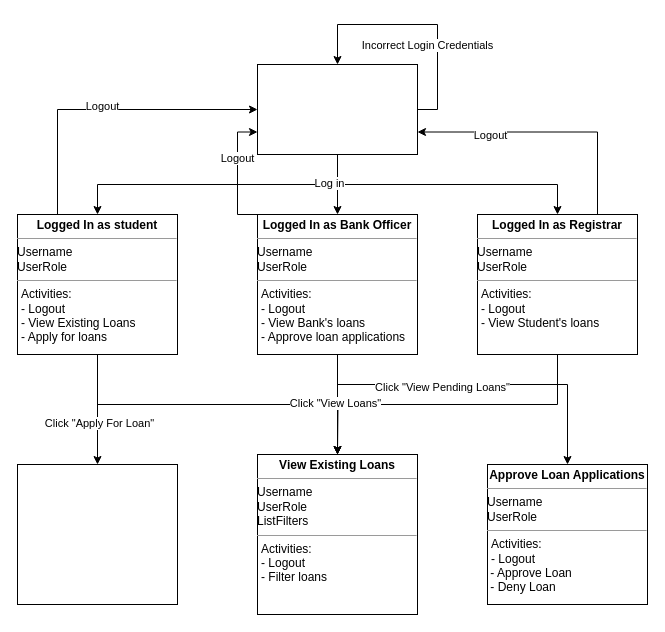
This 665x632 diagram has some shape labels left out. Here are the shapes that lost their labels. From the top down, the centre of each, then its label:
[337,109]: Logged Out n/a Activities: - Login
[97,534]: Apply For loans Username UserRole Activities: - Logout - Submit loan application
